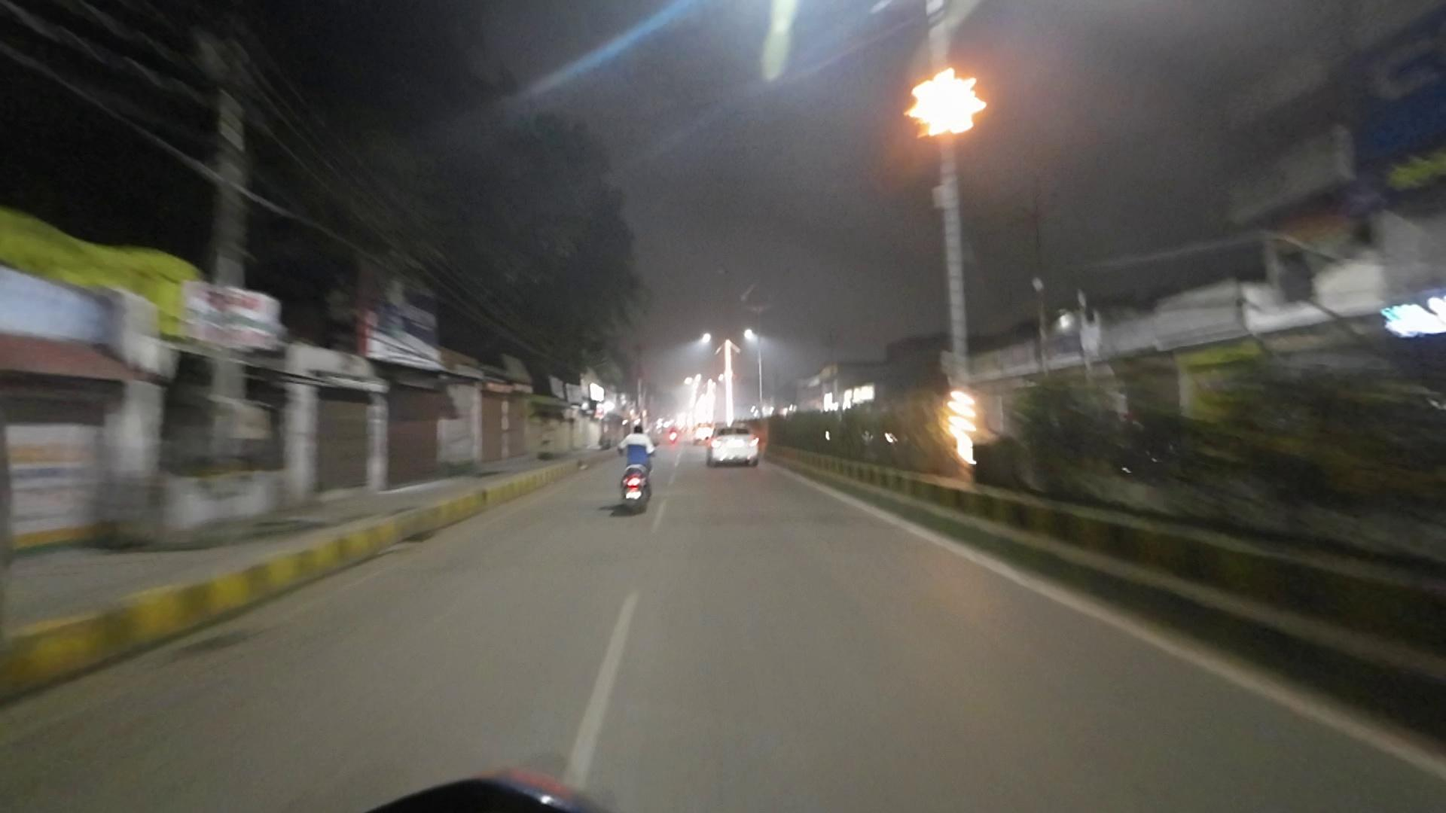streetlight: (716, 265, 749, 283)
